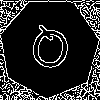Q: (24, 23, 75, 81)
